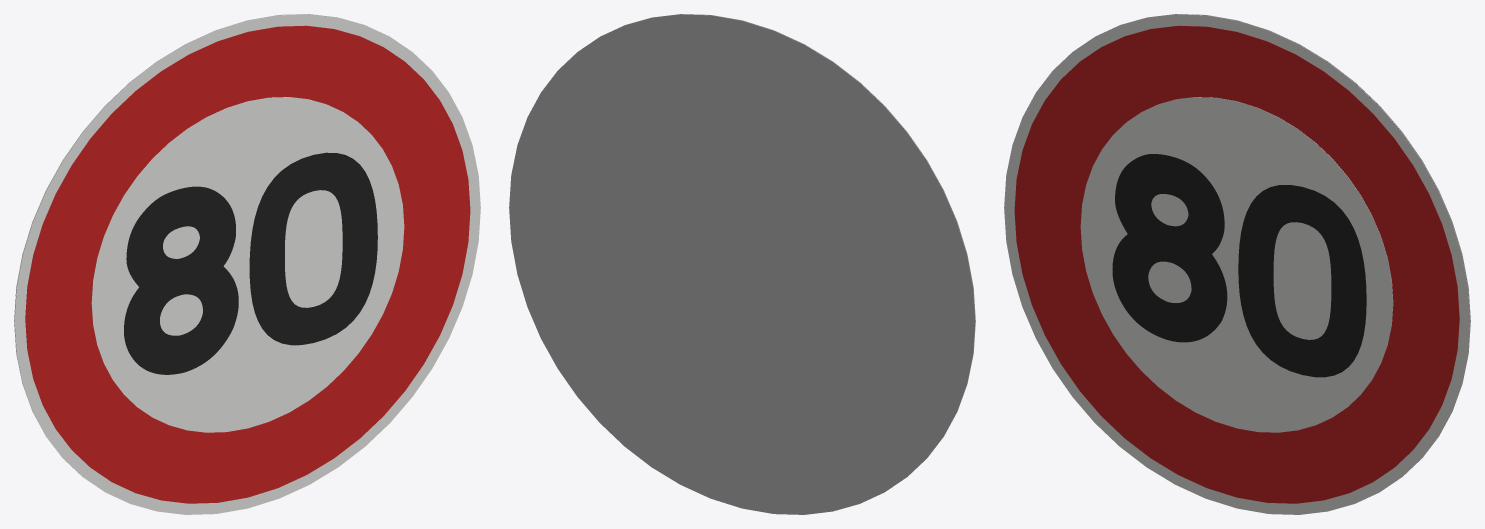
3 renders of one model, left to right at view 1: azimuth 30°, elevation 25°; view 2: azimuth 150°, elevation 25°; view 3: azimuth 330°, elevation 25°, orthographic.
Visible parts, largest first — view 1: B14-80_p01, B14-80_p02, B14-80_p00, B14-80_p04, B14-80_p03, B14-80_dos; view 2: B14-80_dos, B14-80_p00; view 3: B14-80_p01, B14-80_p02, B14-80_p00, B14-80_p04, B14-80_p03, B14-80_dos.
Part boxes in pixels (x1,y1,x2,y2): B14-80_p01: [25, 25, 470, 503]; B14-80_p02: [91, 97, 404, 432]; B14-80_p00: [14, 14, 480, 514]; B14-80_p04: [124, 186, 238, 374]; B14-80_p03: [249, 152, 377, 345]; B14-80_dos: [14, 14, 385, 473]; B14-80_dos: [509, 14, 975, 514]; B14-80_p00: [604, 14, 975, 473]; B14-80_p01: [1014, 25, 1459, 503]; B14-80_p02: [1080, 97, 1393, 432]; B14-80_p00: [1004, 14, 1470, 514]; B14-80_p04: [1112, 154, 1227, 342]; B14-80_p03: [1238, 185, 1366, 377]; B14-80_dos: [1099, 14, 1470, 473].
Bounding box in the file's own units: 0.85 × 0.8498 × 0.0035.
